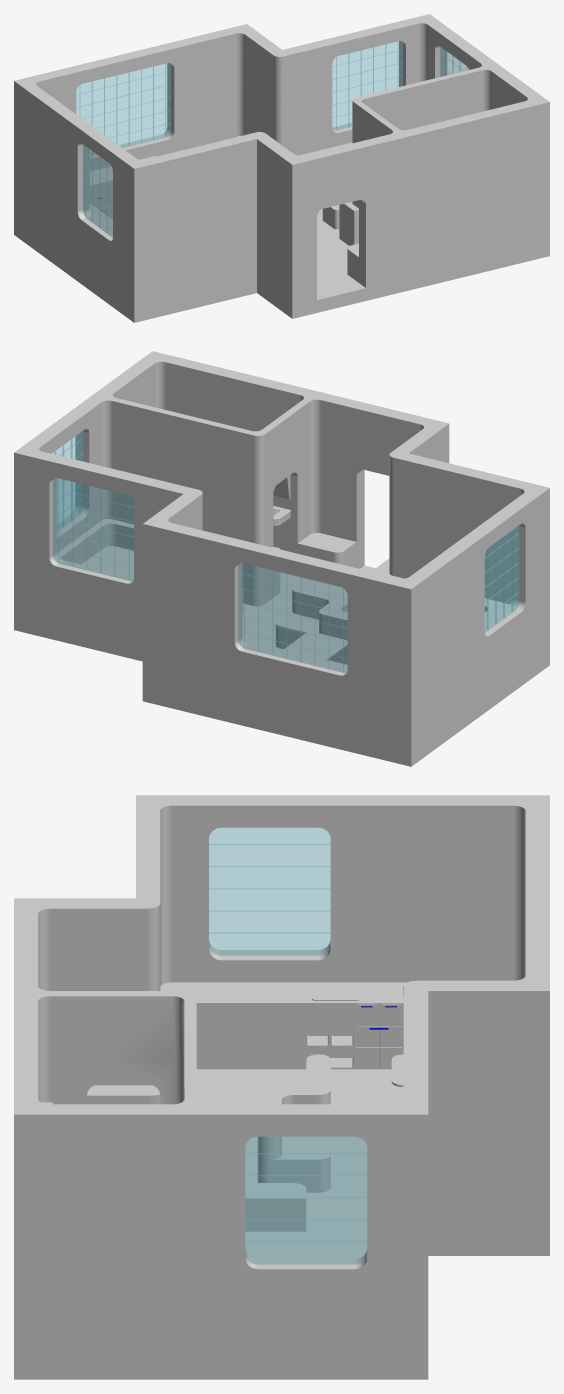
The model's file is memory typeC OptionC.glb.
3 views of the same model, one above another, from view 1: azimuth 30°, elevation 25°; view 2: azimuth 150°, elevation 25°; view 3: azimuth 270°, elevation 25° (orthographic). The views are drawn at different scales.
Parts seen in each view (by area): view 1: 客厅墙, 厕所墙, 厨房墙, Glass, 卧室墙, 卧室桌子, 厨房橱柜, 客厅换鞋凳（软）; view 2: 厨房墙, 客厅墙, 厕所墙, 卧室墙, Glass, 客厅沙发（软）, 卧室床15MM 软包边-皮质, 客厅换鞋凳（软）, 卧室桌子, 厨房桌子, 卧室床（软）, 客厅柜子; view 3: 厨房墙, 厕所墙, 卧室墙, 客厅墙, Glass, 客厅柜子, 客厅沙发（软）, 厨房橱柜, 卧室桌子, 厨房柜门, 卧室床（软）, 客厅沙发（硬） (+1 smaller).
Part boxes in pixels (x1,y1,x2,y2): 客厅墙: [85, 130, 402, 322]; 厕所墙: [352, 63, 549, 291]; 厨房墙: [14, 24, 317, 286]; Glass: [76, 41, 468, 237]; 卧室墙: [283, 14, 496, 232]; 卧室桌子: [339, 202, 358, 245]; 厨房橱柜: [90, 167, 112, 228]; 客厅换鞋凳（软）: [347, 243, 358, 282]; 厨房墙: [142, 488, 492, 766]; 客厅墙: [242, 392, 549, 706]; 厕所墙: [92, 351, 321, 585]; 卧室墙: [14, 396, 251, 661]; Glass: [52, 431, 519, 672]; 客厅沙发（软）: [275, 585, 347, 649]; 卧室床15MM 软包边-皮质: [58, 519, 133, 564]; 客厅换鞋凳（软）: [297, 533, 356, 567]; 卧室桌子: [242, 546, 280, 606]; 厨房桌子: [280, 632, 347, 664]; 卧室床（软）: [82, 546, 133, 577]; 客厅柜子: [373, 558, 509, 624]; 厨房墙: [305, 795, 549, 1255]; 厕所墙: [14, 987, 205, 1379]; 卧室墙: [196, 991, 428, 1379]; 客厅墙: [14, 795, 305, 1182]; Glass: [209, 828, 367, 1264]; 客厅柜子: [87, 982, 305, 1104]; 客厅沙发（软）: [257, 1054, 330, 1170]; 厨房橱柜: [305, 982, 406, 1069]; 卧室桌子: [245, 1183, 306, 1231]; 厨房柜门: [356, 1003, 402, 1067]; 卧室床（软）: [245, 1231, 306, 1258]; 客厅沙发（硬）: [257, 1167, 330, 1192].
Bounding box in the file's own units: 9.3 × 3.6 × 6.6.
